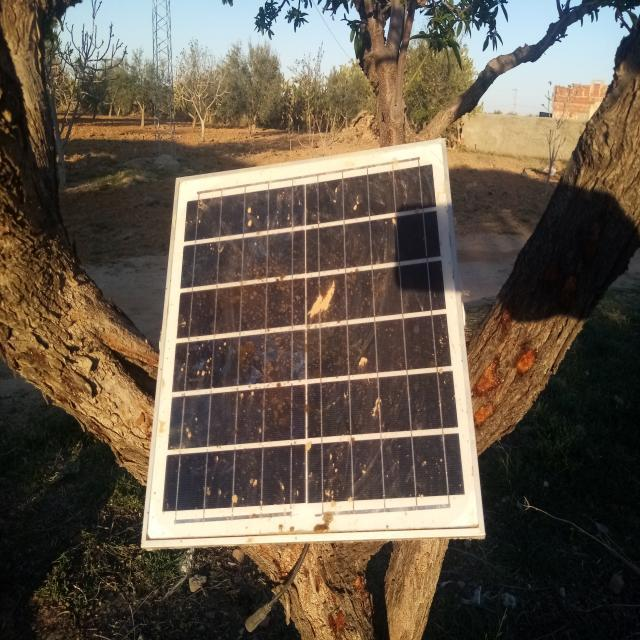Anomaly Solar Panel: (175, 185, 464, 521)
Surface Contaminant: (175, 257, 306, 433), (306, 280, 387, 417), (192, 195, 406, 232), (349, 441, 453, 498), (196, 464, 343, 503)
